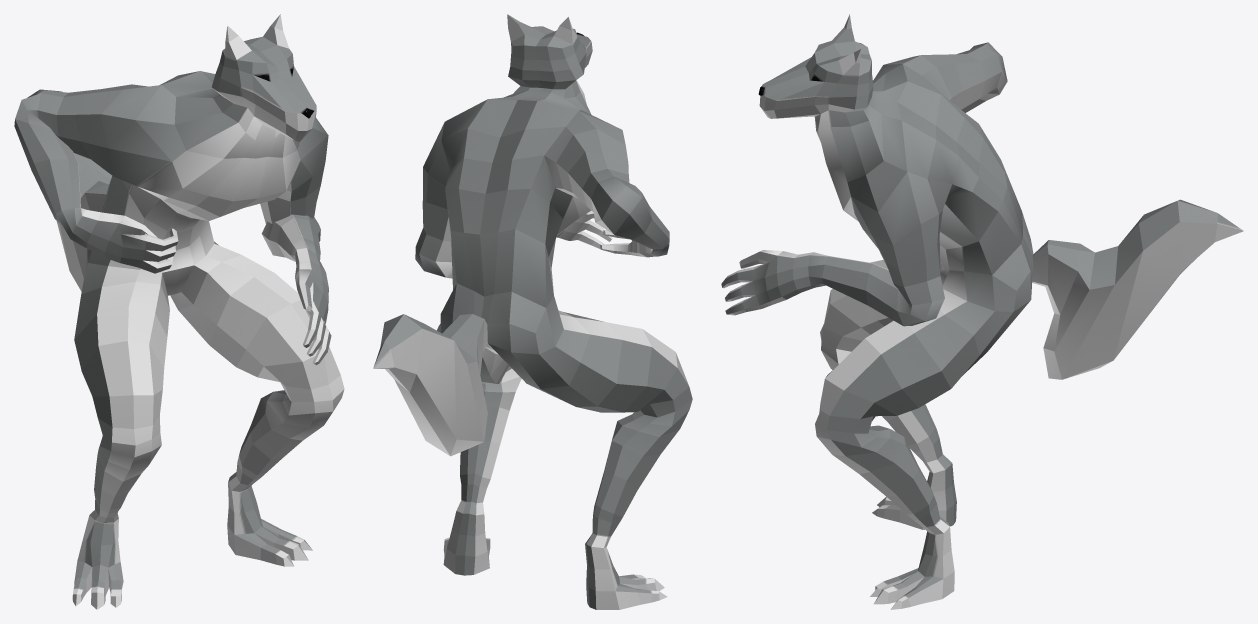
The model's file is WolfIdle_(32).obj.
3 renders of one model, left to right at view 1: azimuth 30°, elevation 25°; view 2: azimuth 150°, elevation 25°; view 3: azimuth 270°, elevation 25°, orthographic. The views are drawn at different scales.
Visible parts, largest first — view 1: Box001; view 2: Box001; view 3: Box001.
Part boxes in pixels (x1=…): Box001: x1=14, y1=14, x2=344, y2=609; Box001: x1=373, y1=14, x2=692, y2=609; Box001: x1=721, y1=14, x2=1243, y2=609.
Bounding box in the file's own units: 65.91 × 133 × 115.
